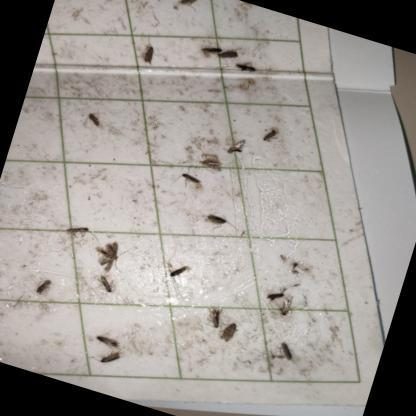prays_oleae: (92, 228, 130, 277), (229, 46, 268, 87), (73, 106, 109, 148), (136, 29, 170, 73), (199, 202, 235, 242), (62, 214, 97, 254), (94, 342, 132, 375), (88, 267, 121, 305), (25, 272, 57, 310), (170, 164, 206, 197), (196, 146, 226, 182), (92, 324, 129, 352), (216, 38, 245, 72), (214, 313, 240, 350), (270, 332, 300, 364), (199, 304, 226, 336), (167, 256, 194, 286), (224, 130, 248, 163), (260, 118, 284, 148), (196, 34, 221, 62), (276, 292, 298, 320), (173, 0, 205, 18), (264, 282, 286, 308)
